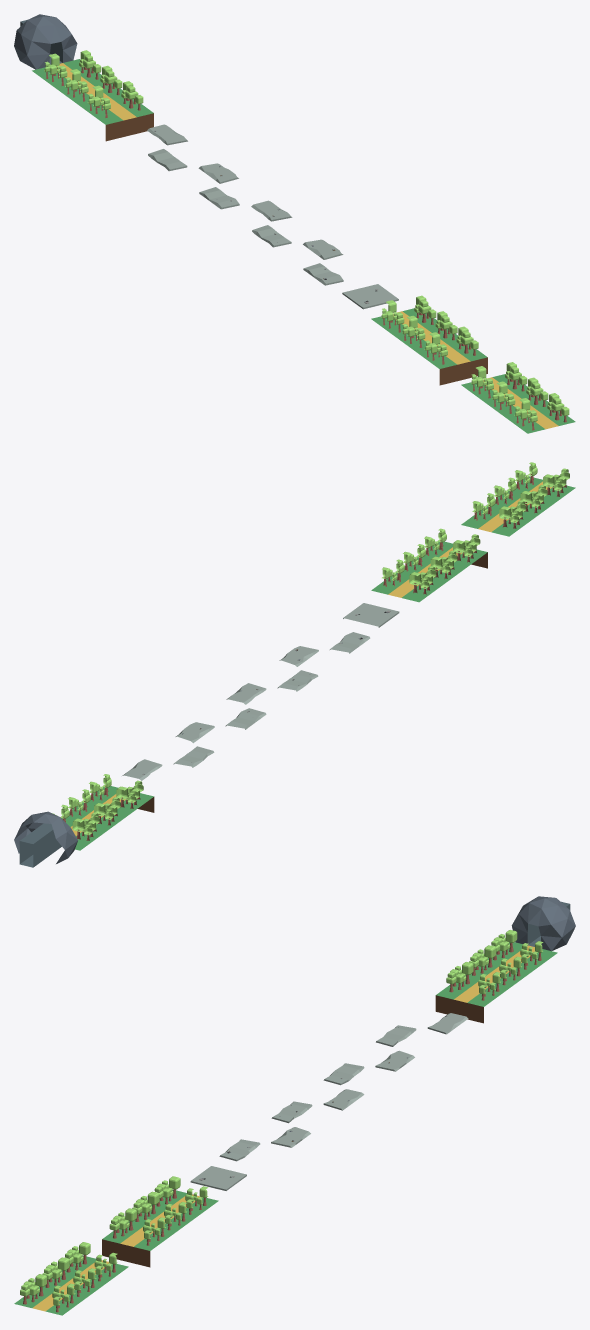
Rendered from road - Copy.fbx.
3 views of the same model, one above another, from view 1: azimuth 30°, elevation 25°; view 2: azimuth 150°, elevation 25°; view 3: azimuth 330°, elevation 25° (orthographic).
Parts seen in each view (by area): view 1: Plane.002, Plane.001, Пещера, Plane, Платформа 1, Платформа 2, Деревья 1, Деревья 2, Деревья 2.001, Деревья3, Деревья2, Деревья1 (+1 smaller); view 2: Plane.001, Plane, Платформа 2, Платформа 1, Plane.002, Деревья 1, Деревья 2.001, Деревья 2, Пещера, Вход в пещеру, Деревья2, Деревья1 (+2 smaller); view 3: Plane.002, Plane.001, Пещера, Plane, Платформа 2, Платформа 1, Деревья 2.001, Деревья 1, Деревья 2, Деревья2, Деревья3, Деревья1 (+1 smaller).
Boxes of the visible parts, x1,y1,x2,y2 form: Plane.002: [32, 59, 153, 141]; Plane.001: [371, 308, 487, 385]; Пещера: [14, 14, 77, 69]; Plane: [461, 374, 575, 433]; Платформа 1: [251, 200, 343, 285]; Платформа 2: [147, 124, 239, 209]; Деревья 1: [471, 366, 537, 430]; Деревья 2: [381, 300, 447, 364]; Деревья 2.001: [44, 53, 110, 117]; Деревья3: [79, 50, 143, 110]; Деревья2: [505, 362, 569, 422]; Деревья1: [414, 295, 478, 355]; Plane.001: [371, 541, 487, 602]; Plane: [461, 476, 575, 536]; Платформа 2: [122, 708, 266, 780]; Платформа 1: [226, 632, 370, 704]; Plane.002: [61, 786, 154, 850]; Деревья 1: [499, 468, 569, 528]; Деревья 2.001: [72, 780, 143, 840]; Деревья 2: [409, 534, 480, 594]; Пещера: [14, 811, 77, 863]; Вход в пещеру: [19, 823, 61, 867]; Деревья2: [472, 462, 537, 520]; Деревья1: [382, 528, 446, 586]; Plane.002: [435, 942, 557, 1023]; Plane.001: [102, 1190, 218, 1267]; Пещера: [511, 896, 575, 951]; Plane: [14, 1255, 128, 1315]; Платформа 2: [323, 1013, 468, 1085]; Платформа 1: [219, 1089, 364, 1161]; Деревья 2.001: [446, 930, 517, 992]; Деревья 1: [20, 1242, 90, 1304]; Деревья 2: [109, 1176, 180, 1238]; Деревья2: [52, 1252, 117, 1312]; Деревья3: [478, 941, 543, 1000]; Деревья1: [143, 1186, 208, 1245].
Bounding box in the file's own units: 14782 × 15789 × 267412.
